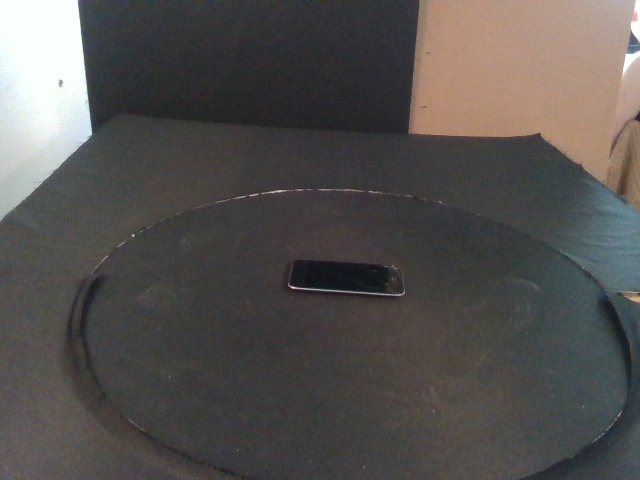phone: (287, 258, 406, 297)
